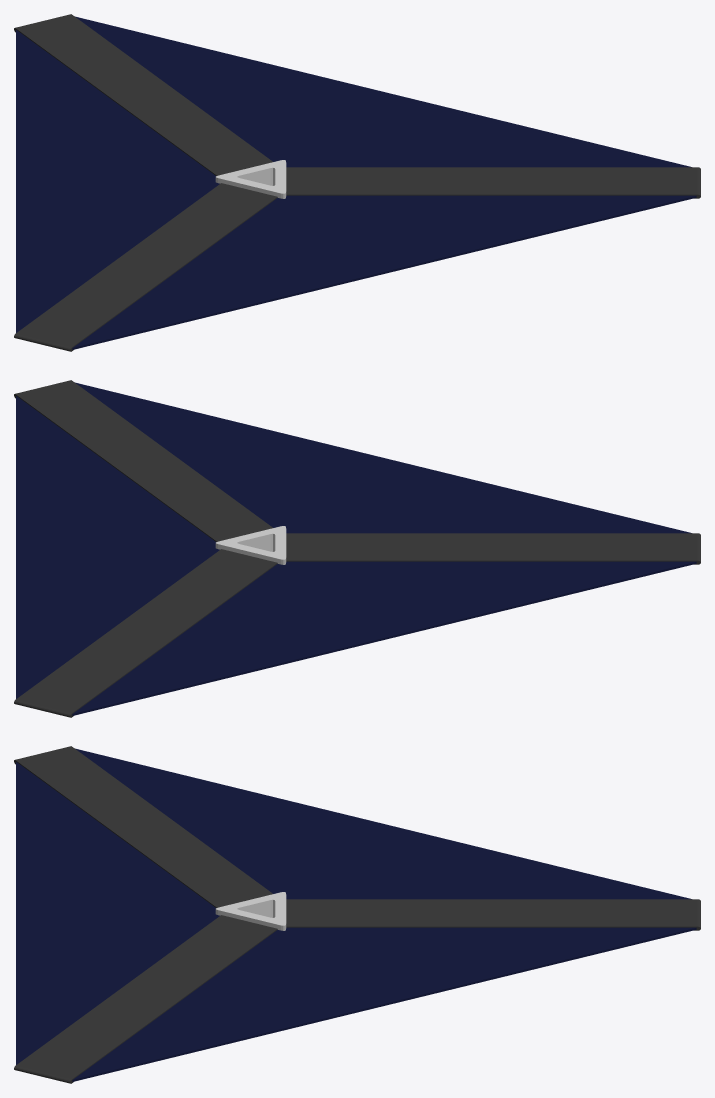
Rendered from W_O_Cafe_Parasol_003_L0.fbx.
3 views of the same model, one above another, from view 1: azimuth 30°, elevation 25°; view 2: azimuth 150°, elevation 25°; view 3: azimuth 270°, elevation 25° (orthographic).
Parts seen in each view (by area): view 1: W_O_Cafe_Parasol_003_L0; view 2: W_O_Cafe_Parasol_003_L0; view 3: W_O_Cafe_Parasol_003_L0.
Boxes of the visible parts, box(x1,y1,x2,y2) form: W_O_Cafe_Parasol_003_L0: box(14, 14, 700, 351); W_O_Cafe_Parasol_003_L0: box(14, 380, 700, 717); W_O_Cafe_Parasol_003_L0: box(14, 746, 700, 1083).
Size of the model in its own units: 3.52 by 3.05 by 0.3604.
